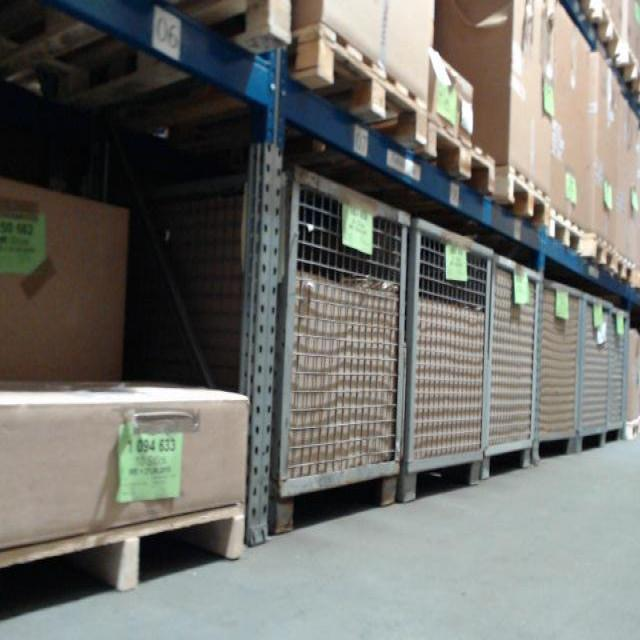pallet: (1, 495, 248, 622), (293, 24, 429, 153), (425, 105, 498, 201), (179, 5, 294, 65), (499, 161, 552, 237), (548, 205, 588, 259), (589, 233, 616, 276)
stillage: (97, 145, 412, 536), (396, 197, 496, 503), (482, 237, 543, 477), (530, 279, 586, 471), (575, 283, 615, 456), (601, 302, 633, 444)
